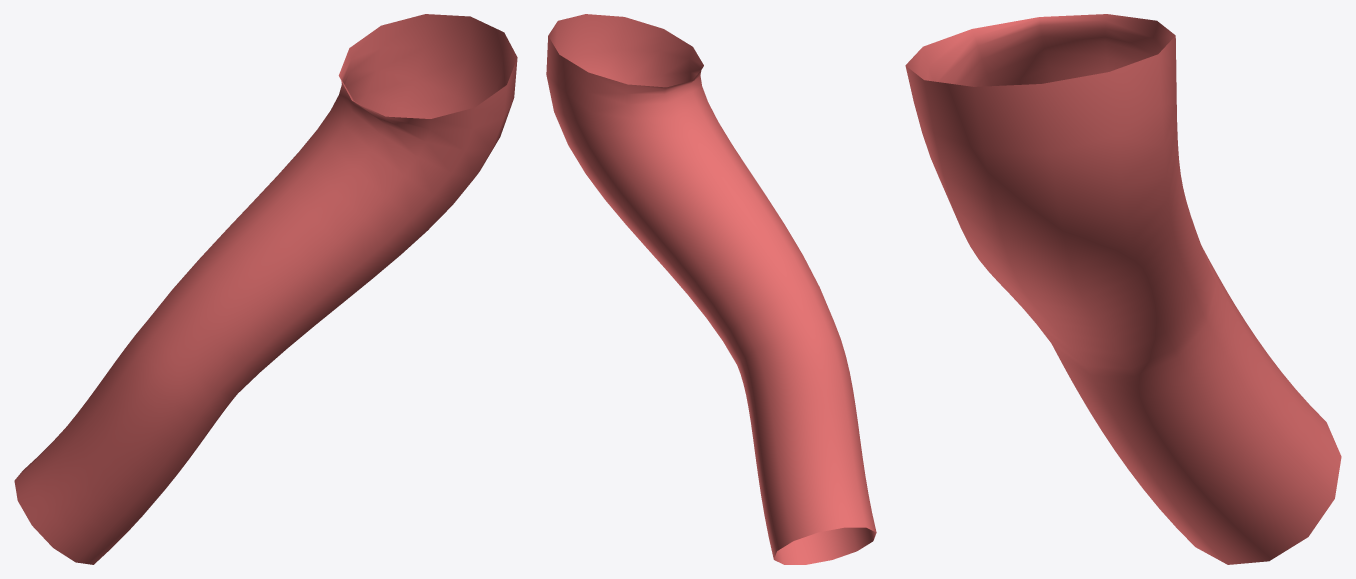
File: Common_iliac_artery.r_BezierCurve.409.glb
The picture shows the model from 3 angles, left to right: view 1: azimuth 30°, elevation 25°; view 2: azimuth 150°, elevation 25°; view 3: azimuth 270°, elevation 25°; orthographic projection. The views are drawn at different scales.
Visible parts, largest first — view 1: Common_iliac_artery.r_BezierCurve.409; view 2: Common_iliac_artery.r_BezierCurve.409; view 3: Common_iliac_artery.r_BezierCurve.409.
Part boxes in pixels (bbox=[...]): Common_iliac_artery.r_BezierCurve.409: bbox=[14, 14, 517, 564]; Common_iliac_artery.r_BezierCurve.409: bbox=[546, 14, 876, 564]; Common_iliac_artery.r_BezierCurve.409: bbox=[905, 14, 1341, 564].
Bounding box in the file's own units: 0.0481 × 0.0537 × 0.0289.
